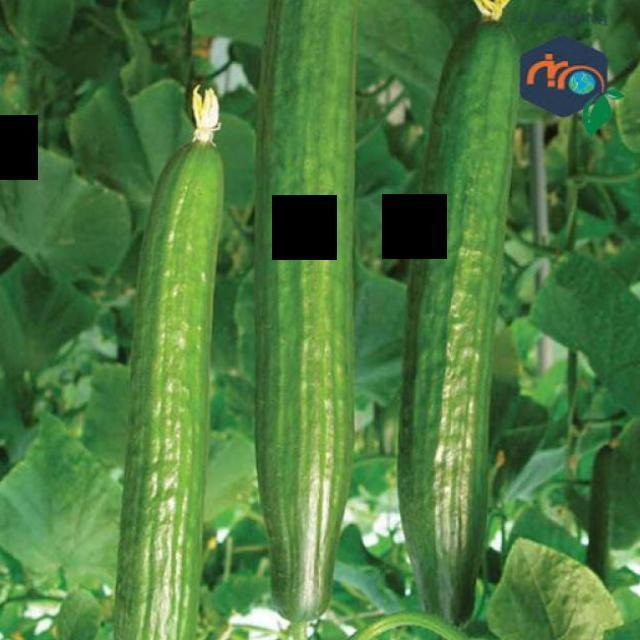cucumber: (398, 18, 520, 632), (254, 0, 362, 629), (114, 136, 228, 640)
